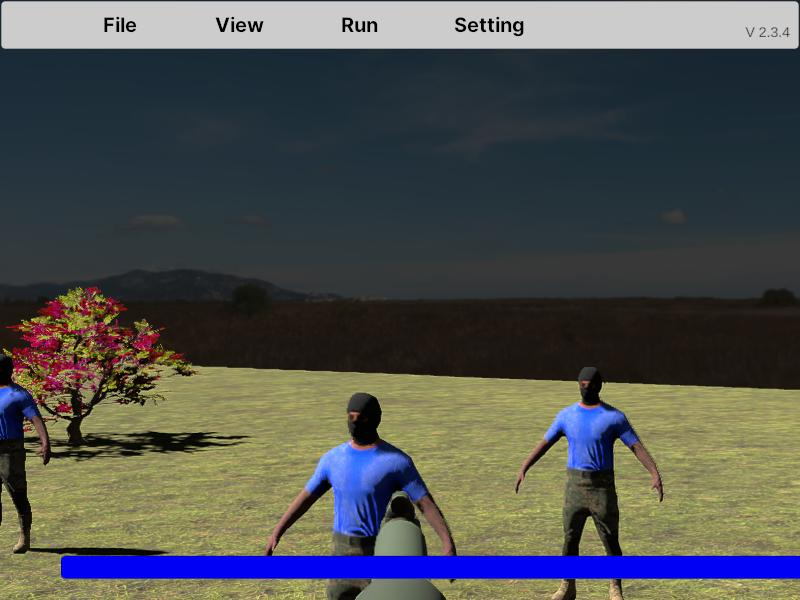Human: (263, 390, 459, 600), (513, 362, 665, 599), (0, 351, 50, 554)
